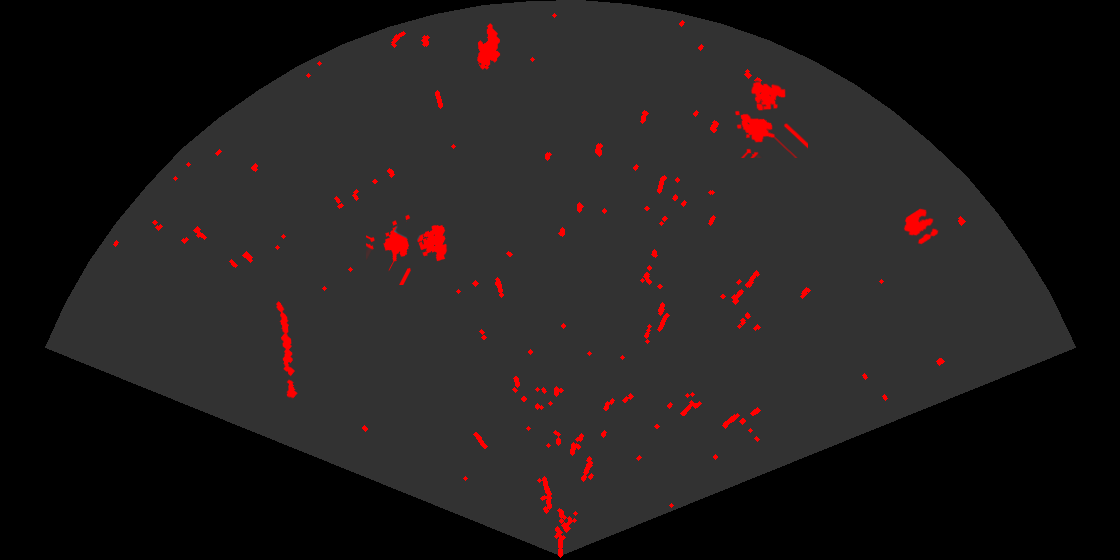AUV: (476, 22, 501, 71)
ball: (902, 207, 940, 246)
cage: (366, 213, 449, 285), (733, 80, 808, 158)
chain: (275, 300, 299, 400)
